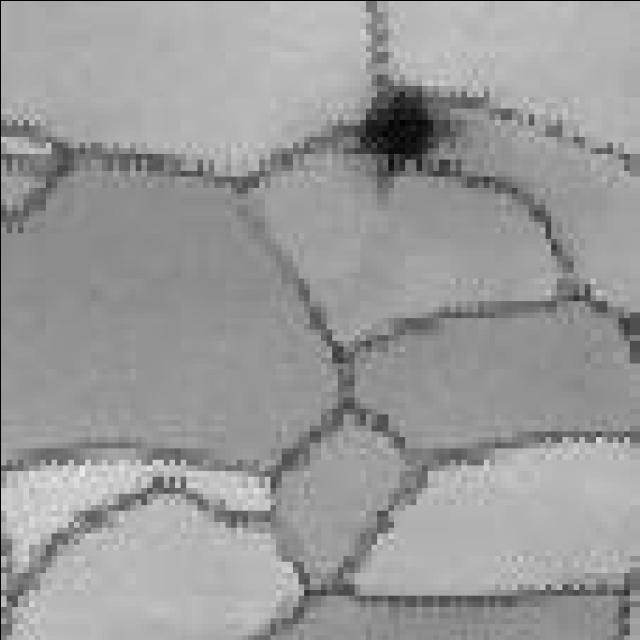good_void: (349, 80, 451, 211)
